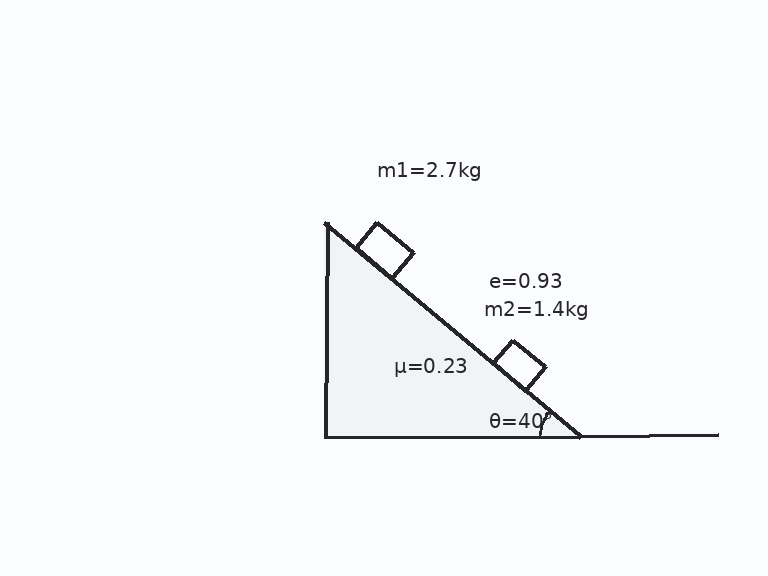block: (354, 220, 415, 280), (491, 338, 547, 392)
ramp: (323, 220, 582, 438)
